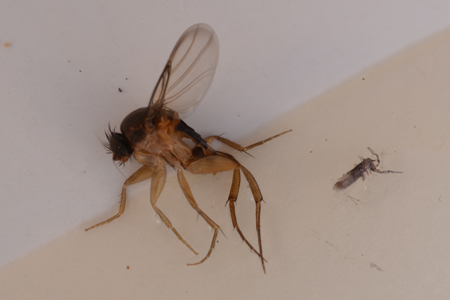phorid fly: (73, 21, 305, 284)
